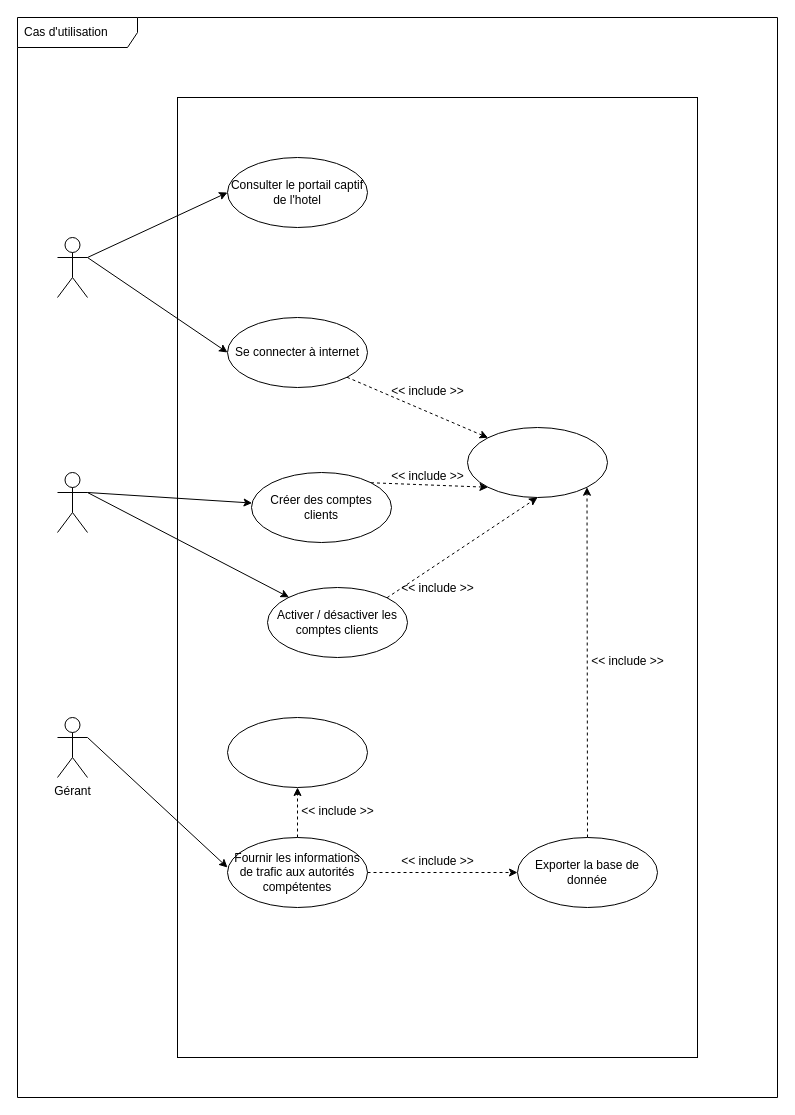
Image size: 795x1115. Some labels were removed from this diagram. The centre of each missing label's shape, as x and y in pixels:
"Client" goes at (x=72, y=267).
"Enregistrer les informations de trafic des clients" goes at (x=297, y=752).
"Réceptionniste" goes at (x=72, y=502).
"S'authentifier" goes at (x=537, y=462).
